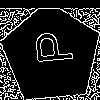P: (26, 29, 73, 66)
